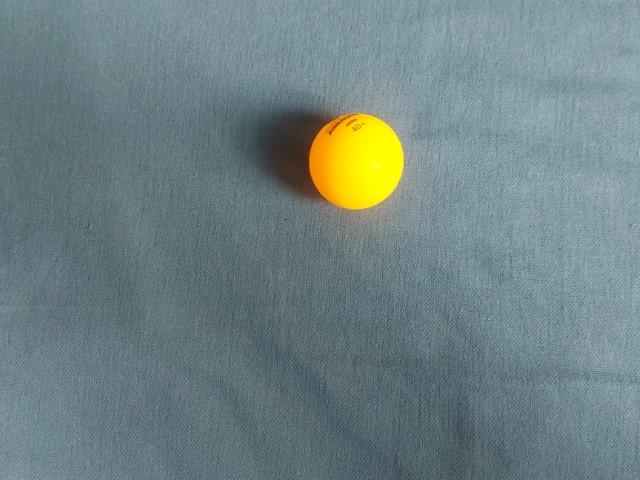oball: (230, 267, 336, 374)
